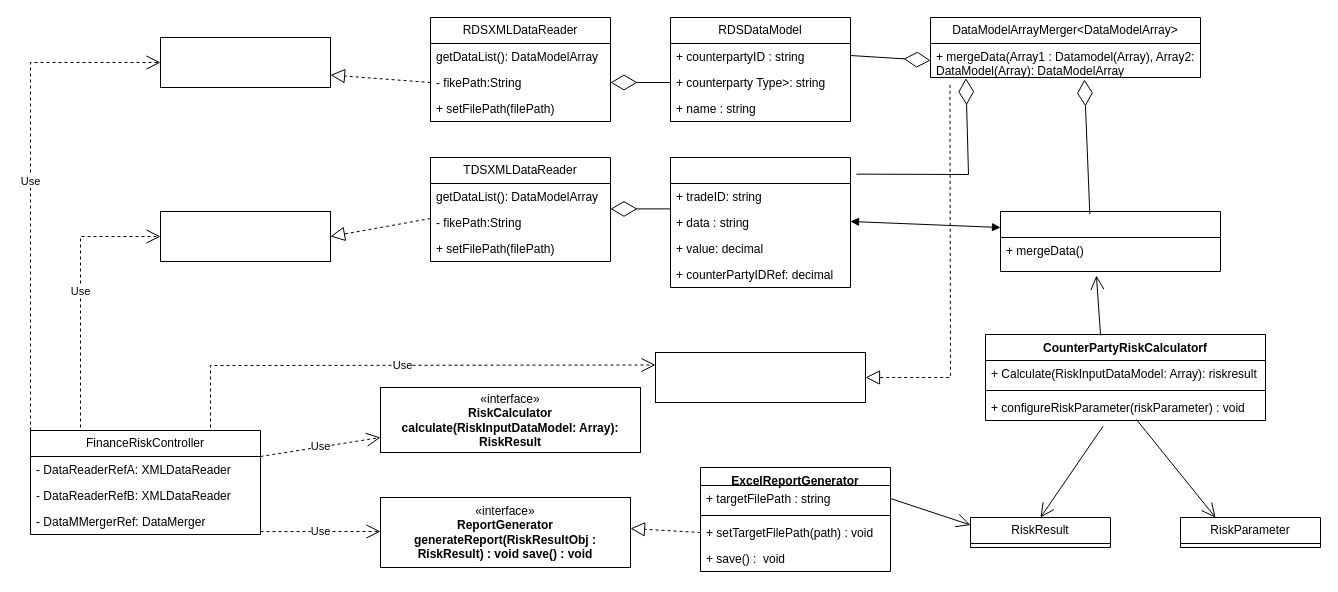
Image size: 1338x592. Some labels were removed from this diagram. Each missing label, with the box of its shape:
RiskInputDataModel: (1000, 210, 1220, 272)
TDSDataModel: (670, 156, 850, 288)
«interface» DataMerge<T> mergeData(Array1: T , Array2 : T): (654, 352, 866, 402)
«interface» RDSXMLDataReader getDataList(): DataModelArray: (160, 36, 330, 88)
«interface» TDSXMLDataReader getDataList(): DataModelArray: (160, 210, 330, 262)
